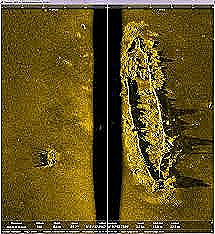ship: (121, 35, 182, 193)
